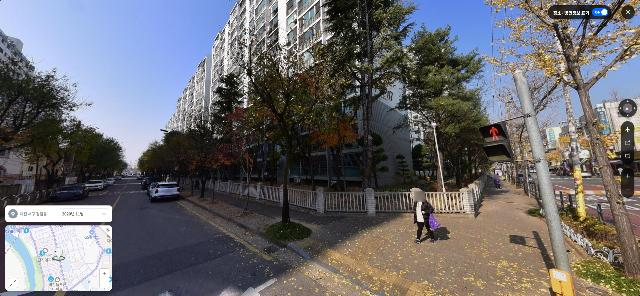ginkgo: (484, 0, 640, 281)
other: (215, 13, 358, 226), (321, 1, 427, 192), (399, 23, 491, 191), (1, 46, 93, 190), (490, 75, 564, 200), (176, 86, 227, 199), (39, 123, 102, 190)
